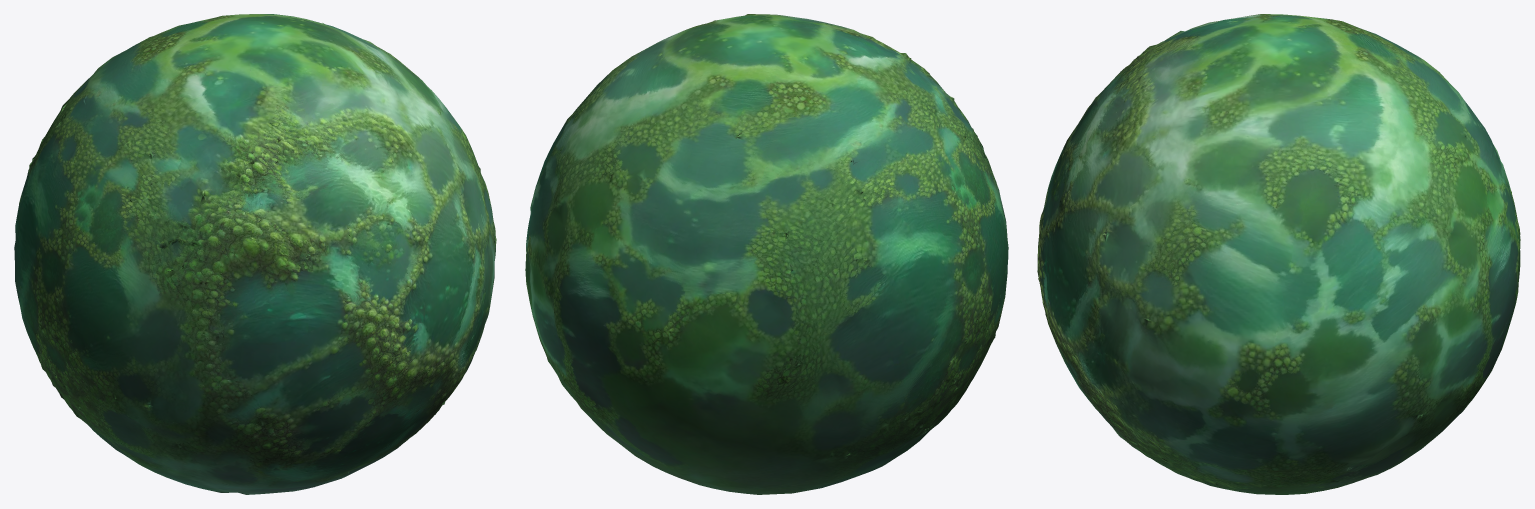
The model's file is jungle_planet_1.glb.
3 views of the same model, side by side, from view 1: azimuth 30°, elevation 25°; view 2: azimuth 150°, elevation 25°; view 3: azimuth 270°, elevation 25° (orthographic).
Visible parts, largest first — view 1: Mesh_0.032; view 2: Mesh_0.032; view 3: Mesh_0.032.
Boxes of the visible parts, x1=… form: Mesh_0.032: x1=14, y1=14, x2=496, y2=494; Mesh_0.032: x1=525, y1=14, x2=1008, y2=494; Mesh_0.032: x1=1037, y1=14, x2=1520, y2=494.
Bounding box in the file's own units: 1.98 × 1.97 × 1.99.
Materials: 1 (1 with a texture image).
